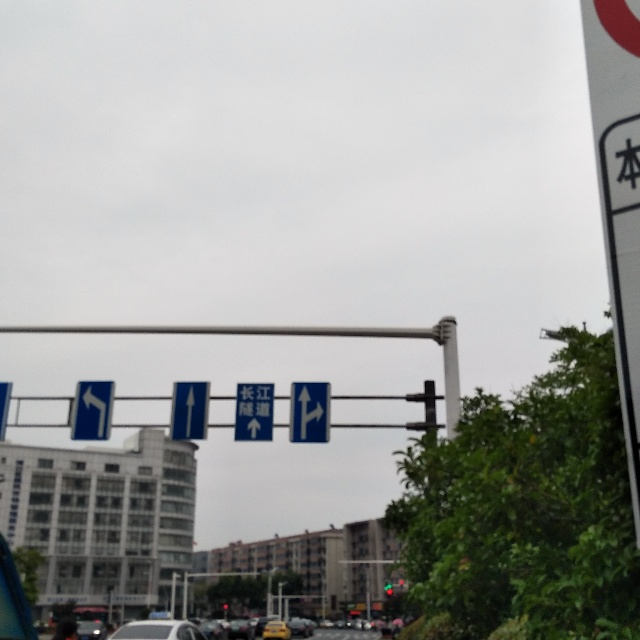left: (78, 382, 112, 439)
straight: (175, 382, 202, 439), (245, 419, 266, 440)
